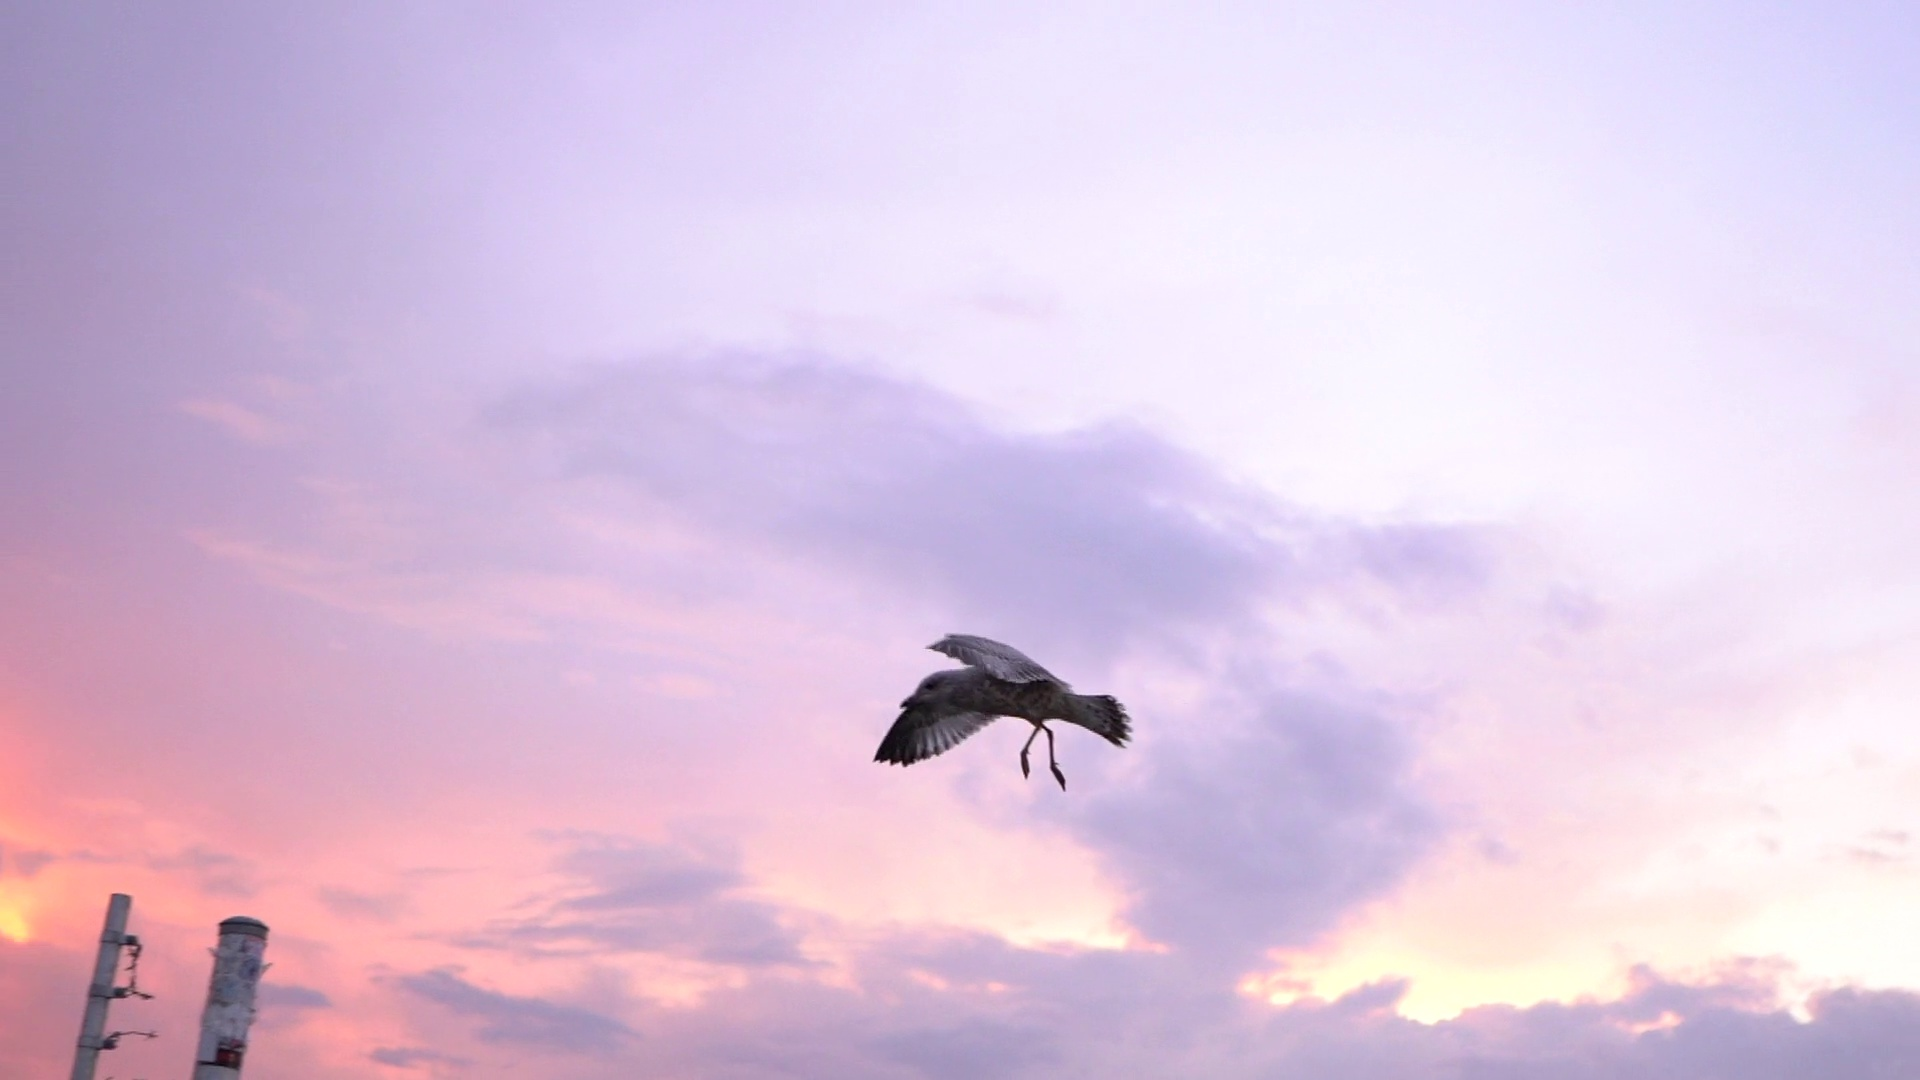bird: (872, 628, 1131, 791)
